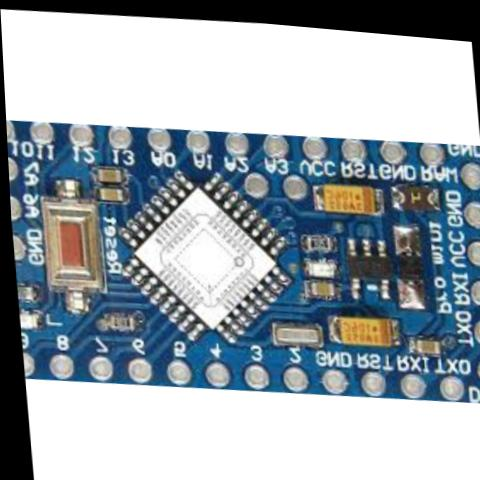Arduino-Pro-Mini: (4, 102, 480, 411)
